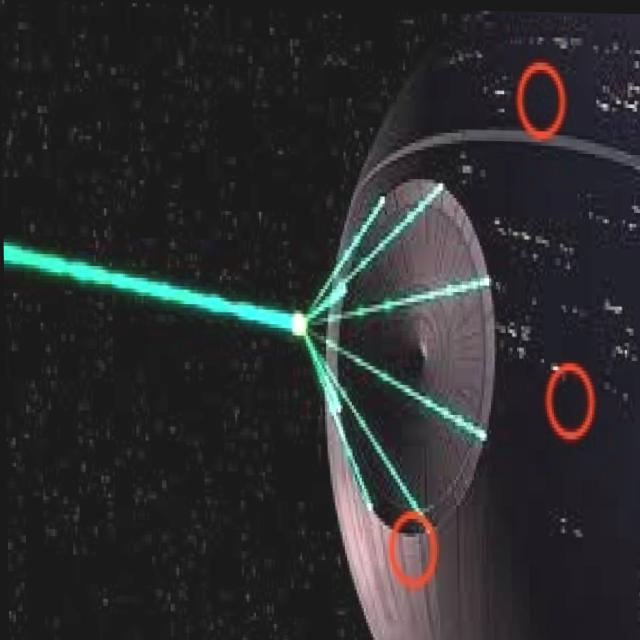deathStar: (316, 10, 640, 640)
